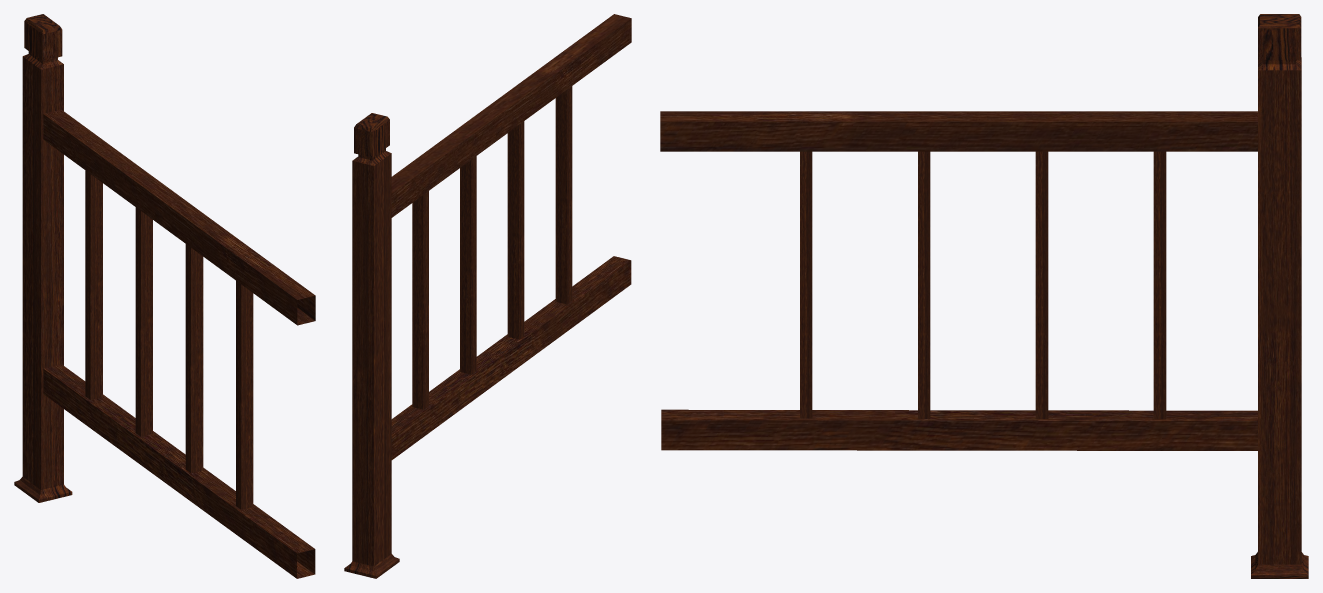
The model's file is fence_stair_straight_short.fbx.
The picture shows the model from 3 angles, left to right: view 1: azimuth 30°, elevation 25°; view 2: azimuth 150°, elevation 25°; view 3: azimuth 270°, elevation 25°; orthographic projection. The views are drawn at different scales.
Visible parts, largest first — view 1: fence_stair_straight_short; view 2: fence_stair_straight_short; view 3: fence_stair_straight_short.
Part boxes in pixels (<box>): fence_stair_straight_short: <box>14,14,315,578</box>; fence_stair_straight_short: <box>344,14,631,578</box>; fence_stair_straight_short: <box>660,14,1308,578</box>.
Size of the model in its own units: 11 by 147 by 157.
